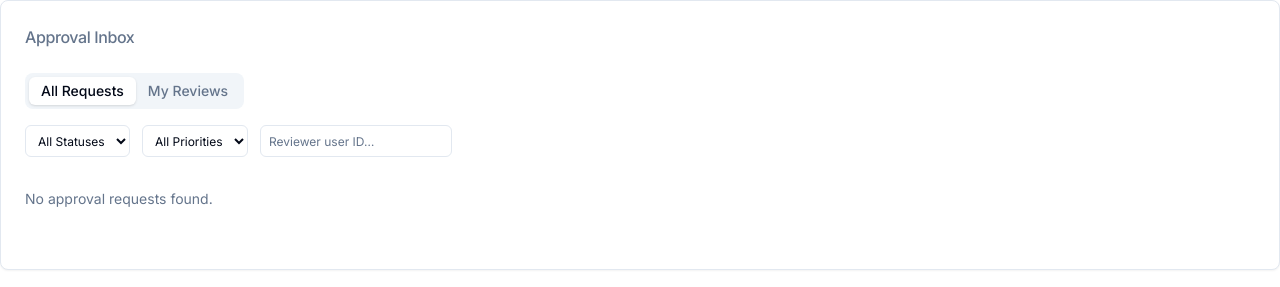
Scenario: ApprovalInbox › filters › shows clear button after setting status filter
Select "Pending" in the dropdown with test id "filter-status" at [78, 141], box [25,125,130,157]
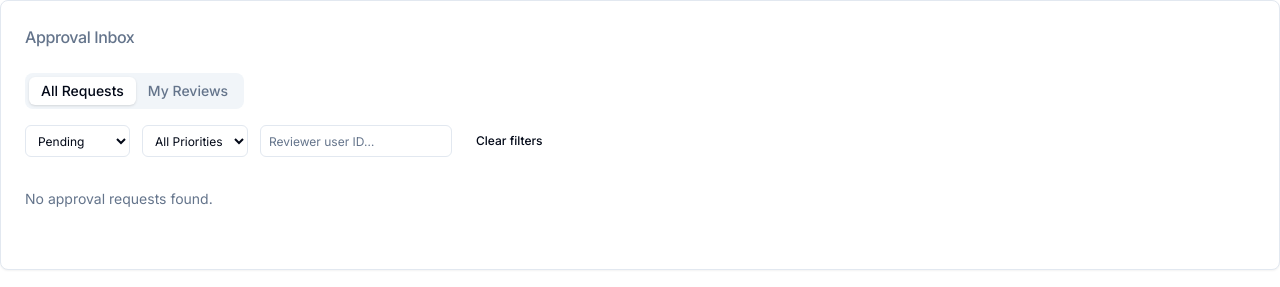
Result: the button with test id "clear-filters-btn" is shown at [464,125,555,157]
